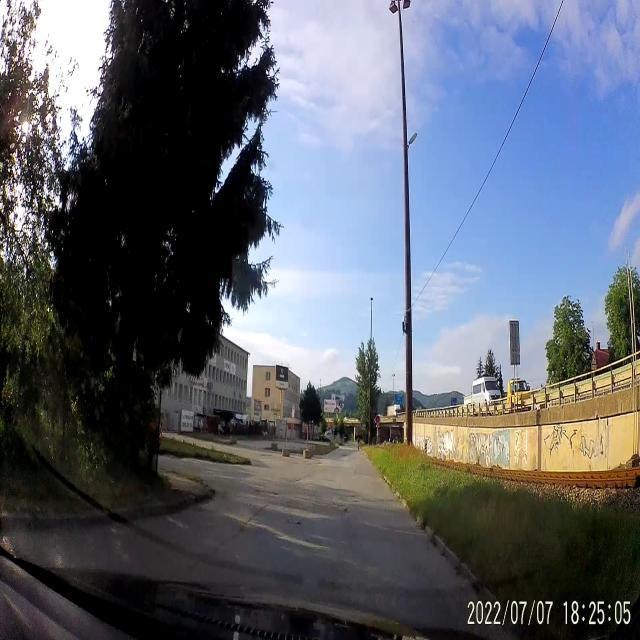Pothole: (254, 484, 280, 499), (343, 492, 361, 506), (287, 516, 304, 529), (340, 504, 353, 518), (314, 459, 324, 469), (259, 452, 274, 458), (293, 476, 304, 484)
